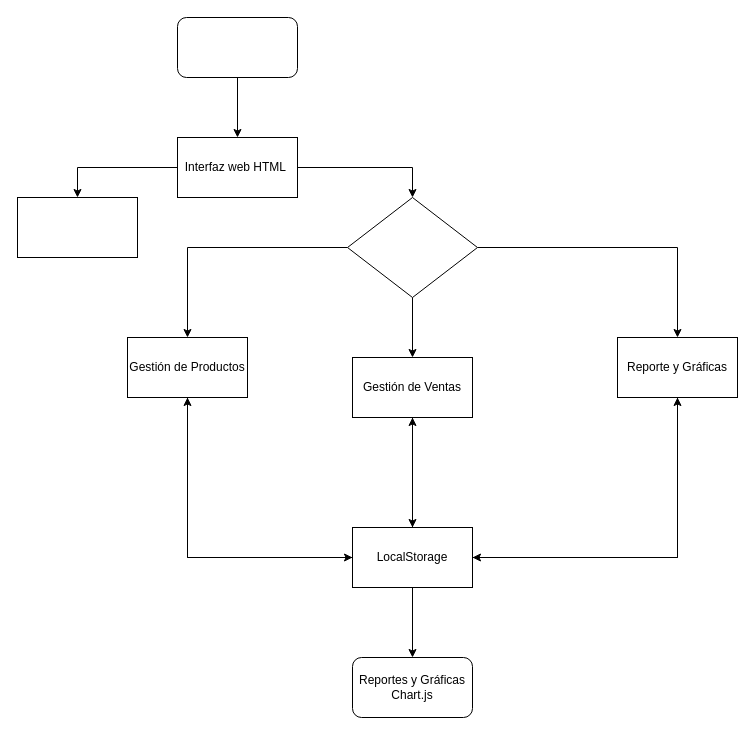
Image size: 755x735. Some labels were removed from this diagram. The shapes that lost their labels are listed below. From the top down, each one's centre as x and y in pixels, then its label:
the point at 237,47: USUARIO
the point at 77,227: Diseño Visual Css
the point at 412,247: Lógica Del Sistema JavaScript
